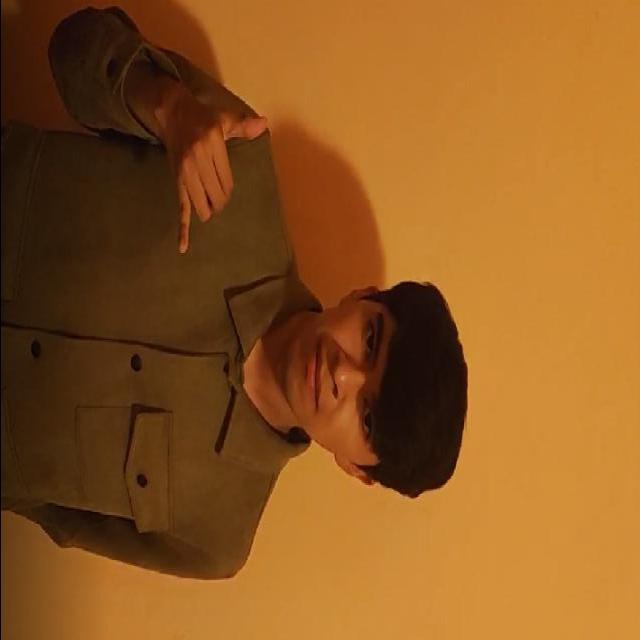Y: (130, 60, 286, 265)
